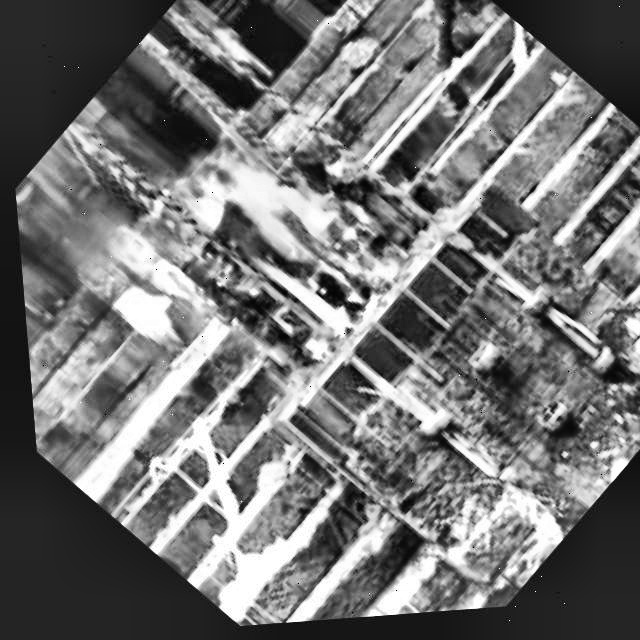Fire: (160, 113, 410, 362)
